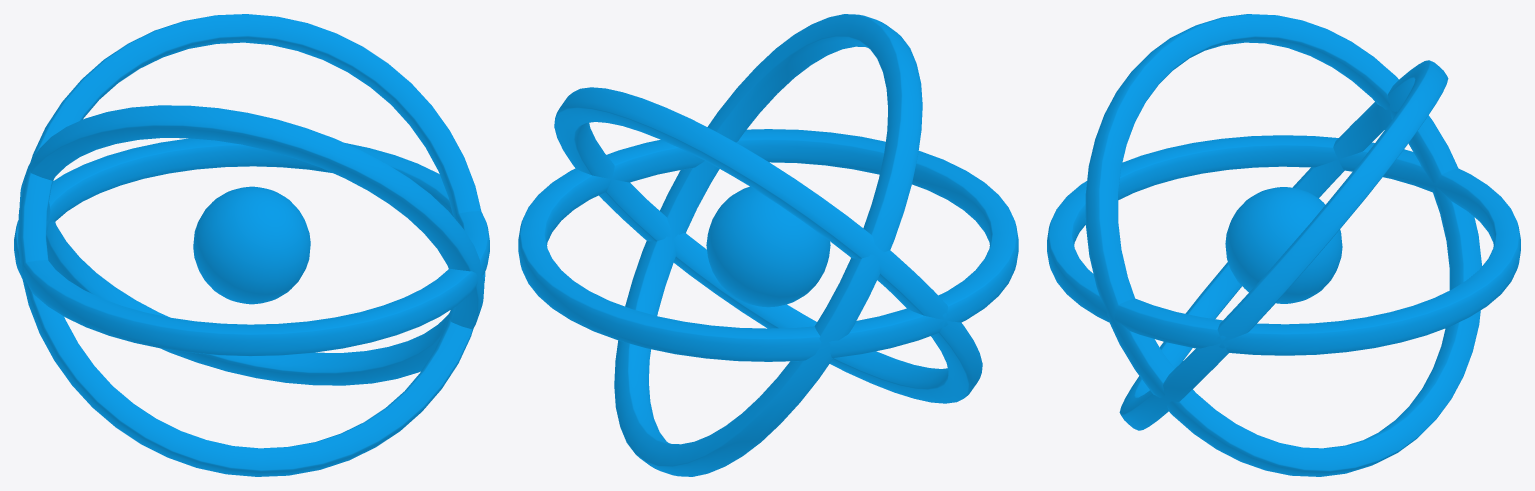
File: react2.glb
3 views of the same model, side by side, from view 1: azimuth 30°, elevation 25°; view 2: azimuth 150°, elevation 25°; view 3: azimuth 270°, elevation 25° (orthographic). The views are drawn at different scales.
Parts seen in each view (by area): view 1: React; view 2: React; view 3: React.
Boxes of the visible parts, bbox=[...] form: React: bbox=[14, 14, 489, 476]; React: bbox=[518, 14, 1018, 476]; React: bbox=[1047, 14, 1520, 476].
Size of the model in its own units: 0.2127 by 0.1829 by 0.2127.
